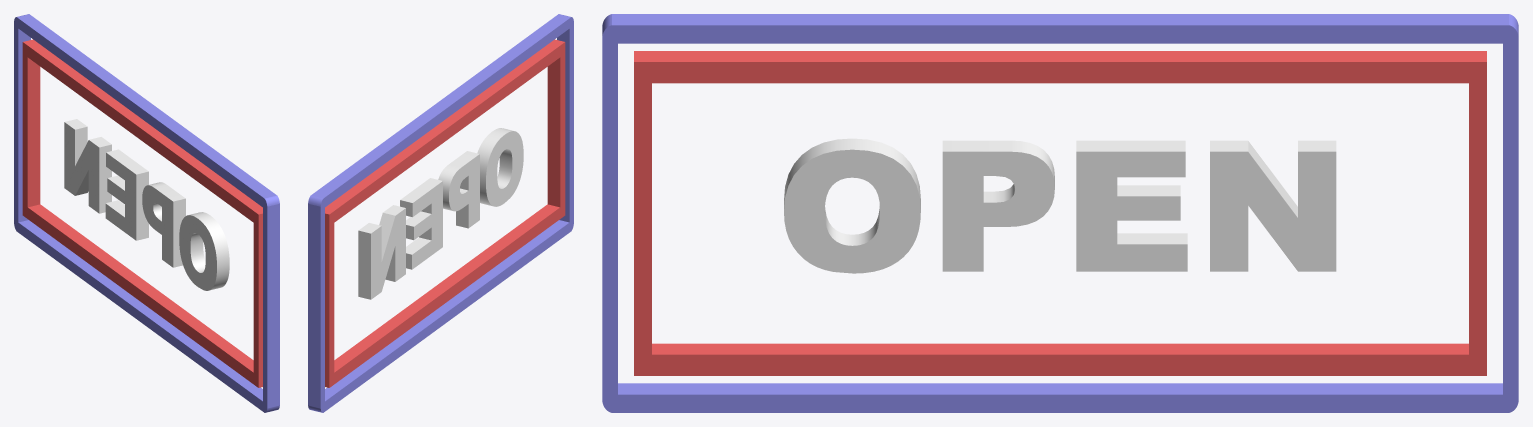
Rendered from Open Sign.fbx.
The picture shows the model from 3 angles, left to right: view 1: azimuth 30°, elevation 25°; view 2: azimuth 150°, elevation 25°; view 3: azimuth 270°, elevation 25°; orthographic projection. The views are drawn at different scales.
Parts seen in each view (by area): view 1: Group1, OPEN1; view 2: Group1, OPEN1; view 3: Group1, OPEN1.
Part boxes in pixels (x1,y1,x2,y2): Group1: (14, 14, 279, 412); OPEN1: (64, 119, 229, 290); Group1: (308, 14, 573, 412); OPEN1: (358, 128, 523, 299); Group1: (602, 14, 1518, 412); OPEN1: (784, 138, 1336, 273).
Bounding box in the file's own units: 1 × 16.18 × 34.64.
